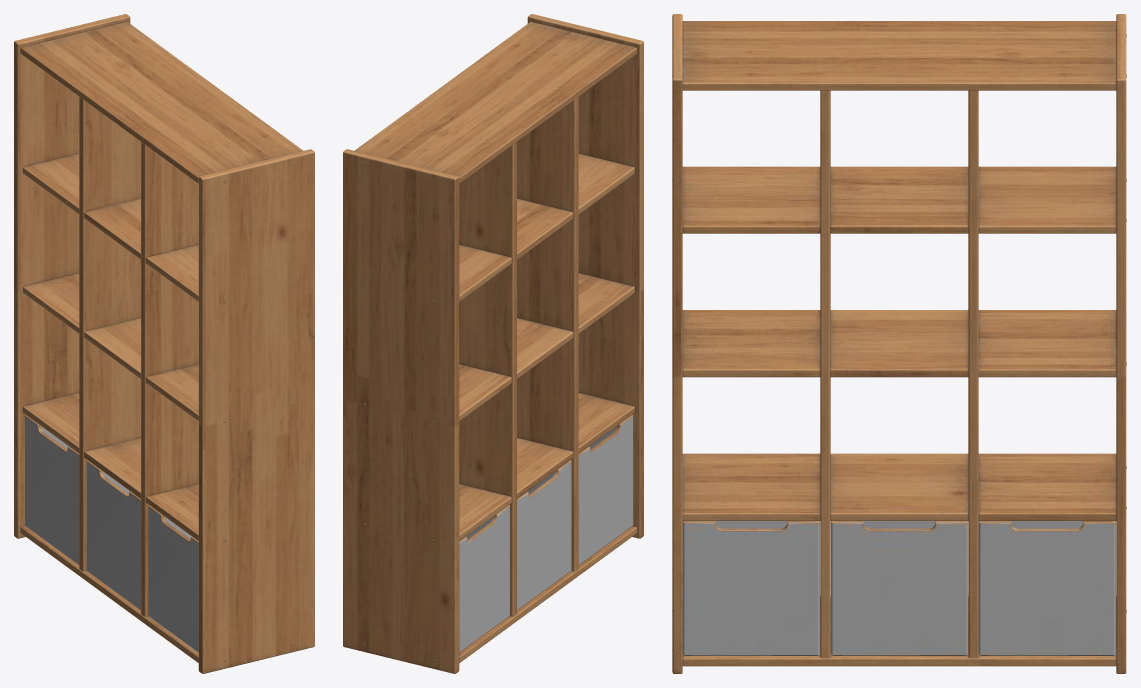
The model's file is wooden-display-shelves-01.glb.
The picture shows the model from 3 angles, left to right: view 1: azimuth 30°, elevation 25°; view 2: azimuth 150°, elevation 25°; view 3: azimuth 270°, elevation 25°; orthographic projection. The views are drawn at different scales.
Parts seen in each view (by area): view 1: wooden_display_shelves_01; view 2: wooden_display_shelves_01; view 3: wooden_display_shelves_01.
Boxes of the visible parts, bbox=[...] form: wooden_display_shelves_01: bbox=[14, 14, 314, 673]; wooden_display_shelves_01: bbox=[343, 14, 643, 673]; wooden_display_shelves_01: bbox=[672, 14, 1126, 673].
Bounding box in the file's own units: 0.3715 × 1.56 × 1.08.
Materials: 1 (1 with a texture image).
